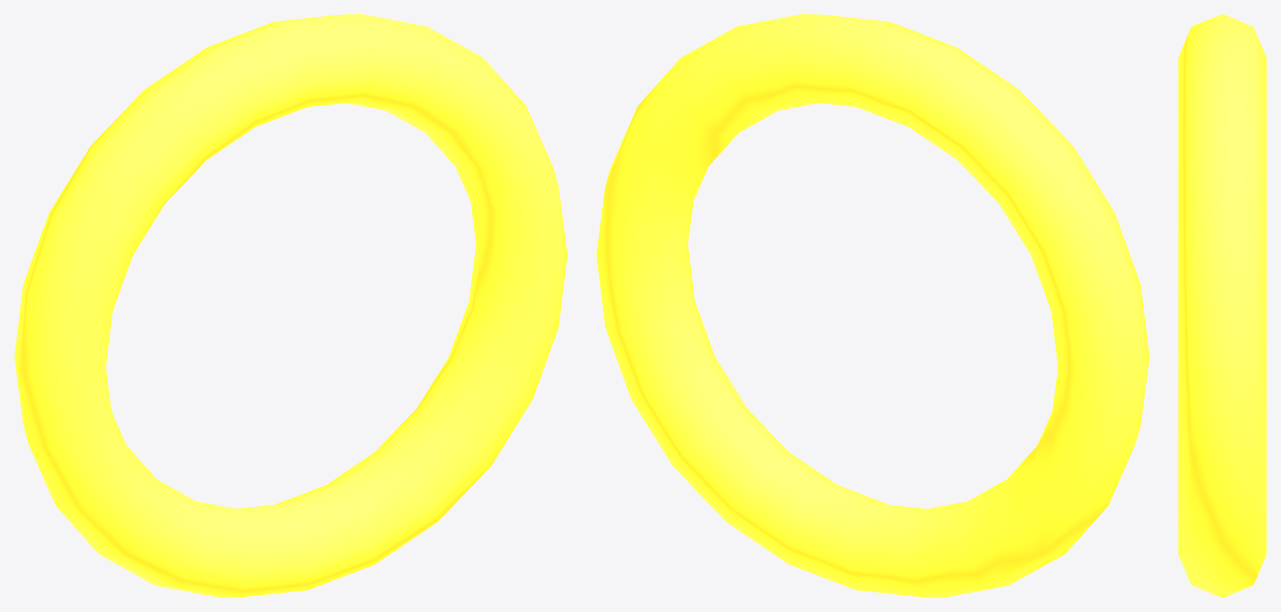
The model's file is miracle-shield.glb.
The picture shows the model from 3 angles, left to right: view 1: azimuth 30°, elevation 25°; view 2: azimuth 150°, elevation 25°; view 3: azimuth 270°, elevation 25°; orthographic projection. The views are drawn at different scales.
Visible parts, largest first — view 1: halo; view 2: halo; view 3: halo.
Part boxes in pixels (bbox=[...]): halo: bbox=[14, 14, 567, 597]; halo: bbox=[596, 14, 1149, 597]; halo: bbox=[1178, 14, 1266, 597].
Size of the model in its own units: 1.06 by 1.06 by 0.16.
